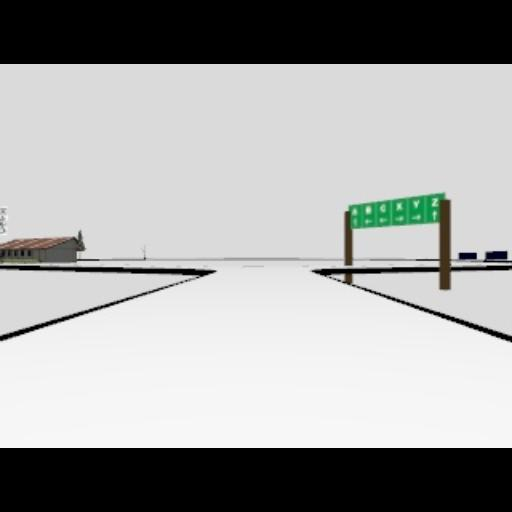A: (352, 206, 358, 216)
B: (364, 205, 372, 215)
C: (380, 204, 386, 214)
Left: (363, 218, 373, 226), (377, 217, 387, 223)
Right: (412, 214, 422, 222), (394, 216, 404, 222)
Straight: (352, 218, 358, 228), (432, 210, 438, 220)
X: (395, 202, 403, 210)
Y: (412, 199, 420, 209)
Z: (431, 197, 439, 207)
